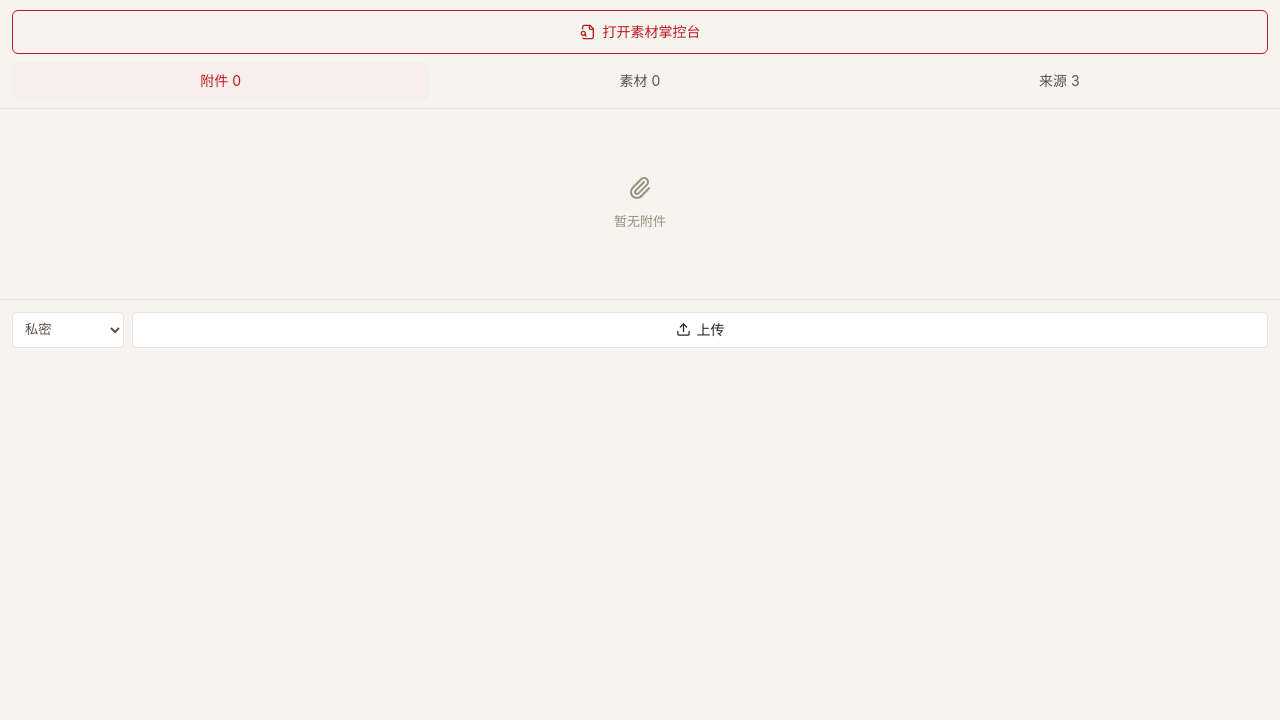
it: 来源页签统一编号并链接固定版本
Click the button "来源 3": (1059, 81) [851,62,1268,100]
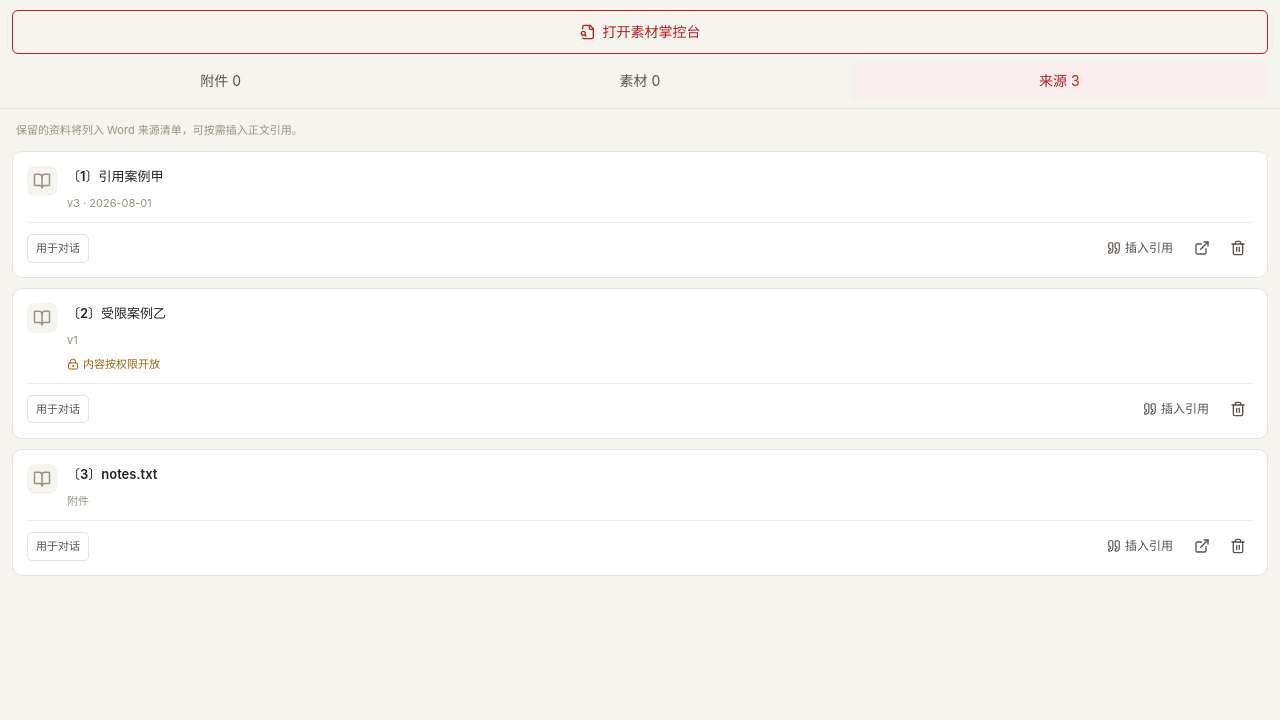
Expected: the number of list items is 3, [12,151,1268,278]; [12,288,1268,439]; [12,449,1268,576]
Expected: the list item "〔1〕引用案例甲 v3 · 2026-08-01 用于对话 插入引用" is shown, [12,151,1268,278]
Expected: the list item "〔3〕notes.txt 附件 用于对话 插入引用" is shown, [12,449,1268,576]
